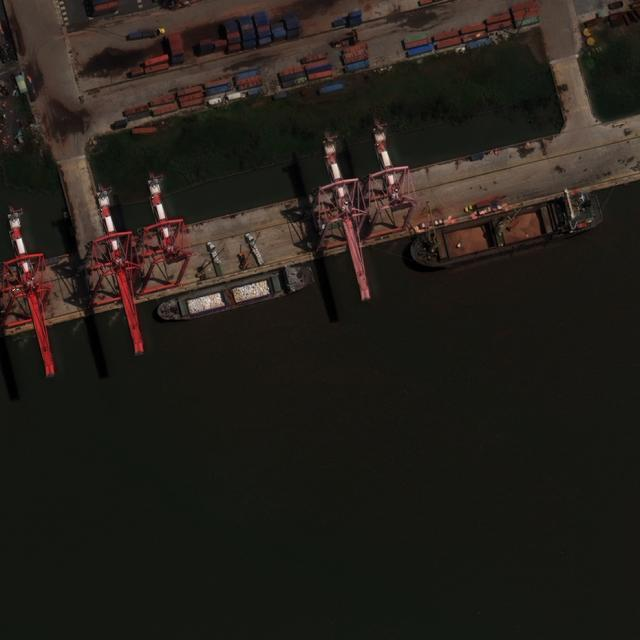Cargo: (406, 191, 607, 275), (153, 262, 320, 328)
